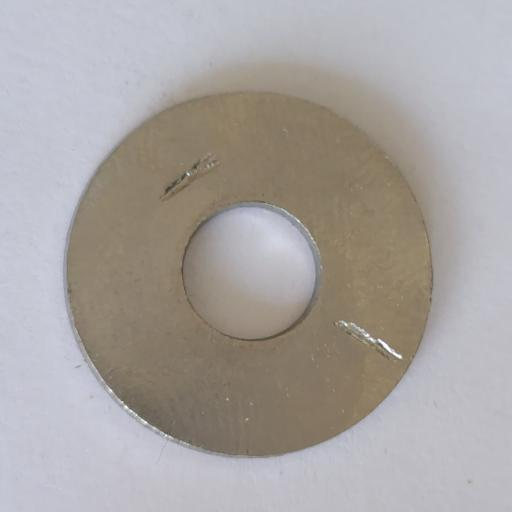scratch: (159, 152, 220, 203), (333, 319, 403, 363)
